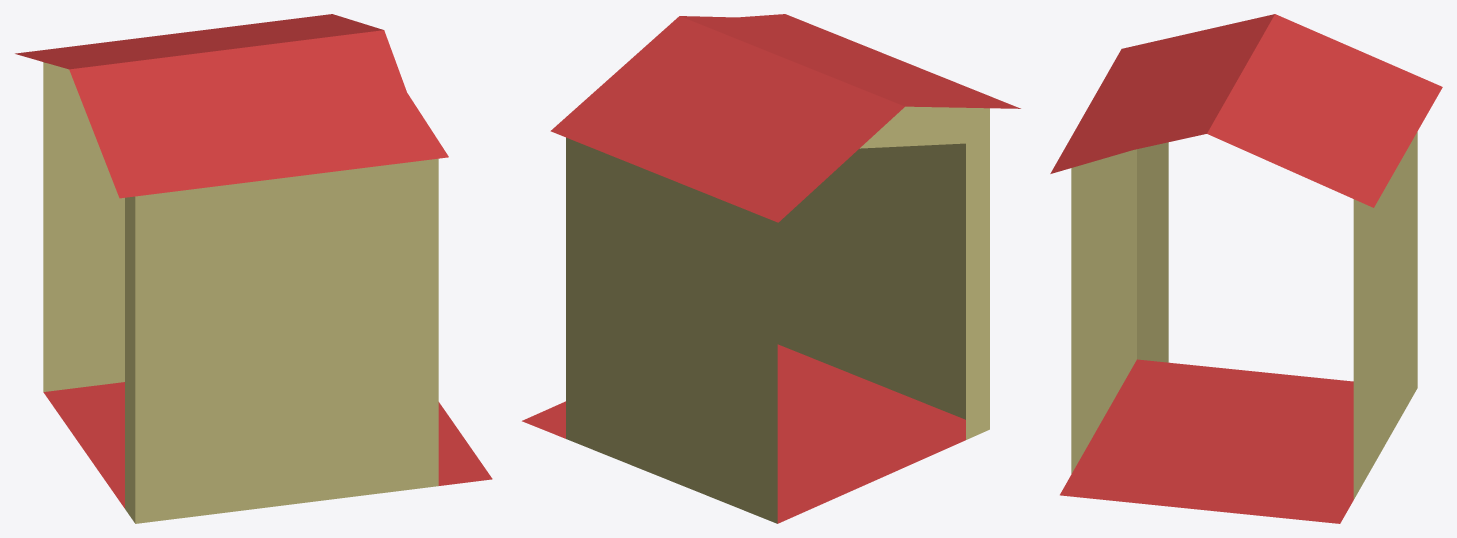
The picture shows the model from 3 angles, left to right: view 1: azimuth 30°, elevation 25°; view 2: azimuth 150°, elevation 25°; view 3: azimuth 270°, elevation 25°; orthographic projection. The views are drawn at different scales.
Size of the model in its own units: 9.93 by 9.41 by 9.26.
